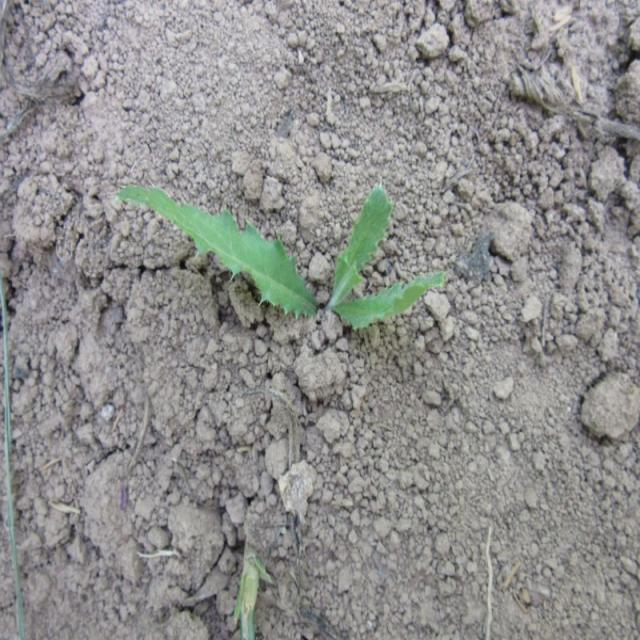field_thistle: (111, 153, 442, 385)
